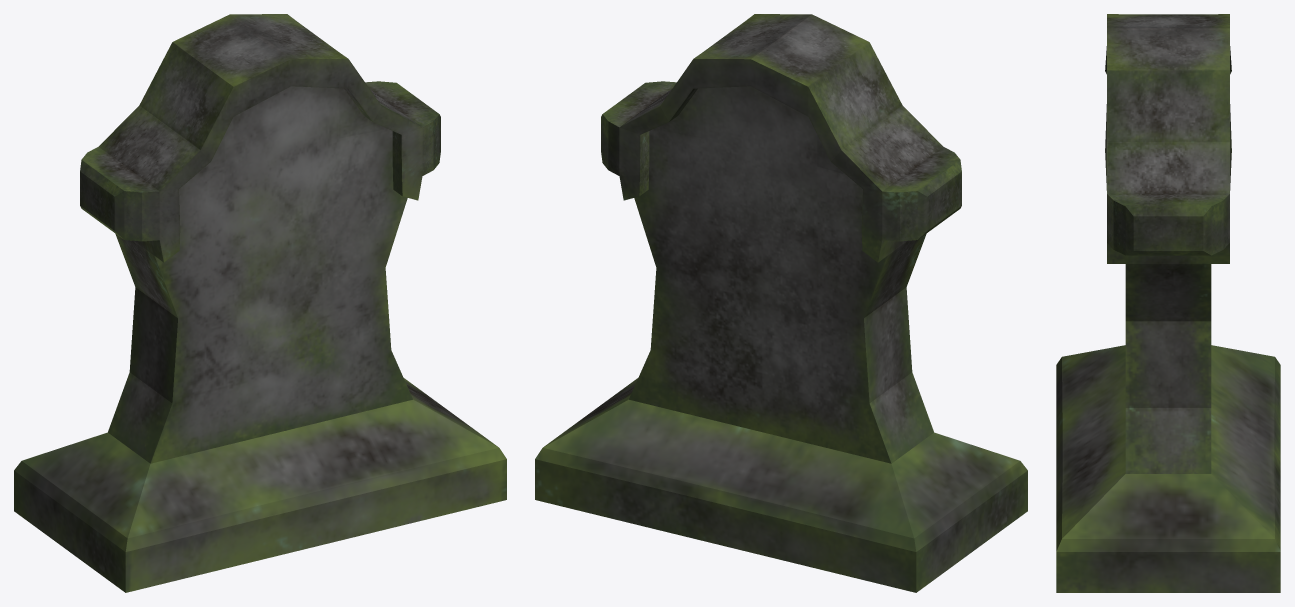
The model's file is tombs_moss_05.fbx.
The picture shows the model from 3 angles, left to right: view 1: azimuth 30°, elevation 25°; view 2: azimuth 150°, elevation 25°; view 3: azimuth 270°, elevation 25°; orthographic projection.
Visible parts, largest first — view 1: tombs_moss_05; view 2: tombs_moss_05; view 3: tombs_moss_05.
Part boxes in pixels (x1,y1,x2,y2): tombs_moss_05: [14, 14, 506, 592]; tombs_moss_05: [535, 14, 1027, 592]; tombs_moss_05: [1056, 14, 1280, 592].
Bounding box in the file's own units: 0.1364 × 0.1603 × 0.0692.
Materials: 1 (1 with a texture image).
